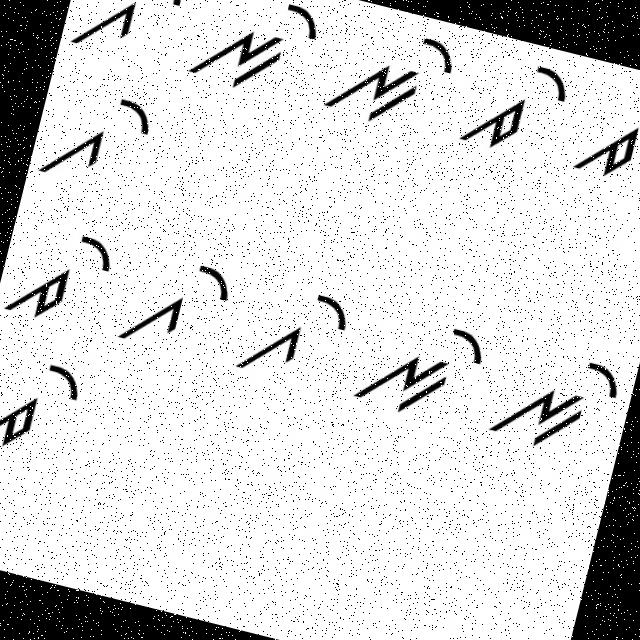gay: (109, 237, 241, 371), (32, 76, 159, 206), (234, 266, 356, 394), (66, 0, 196, 73)
ngay: (346, 296, 495, 444), (480, 334, 630, 481), (315, 10, 462, 145), (185, 0, 328, 108)
tay: (444, 36, 574, 166), (0, 208, 124, 339), (0, 342, 94, 481), (566, 66, 639, 199)
